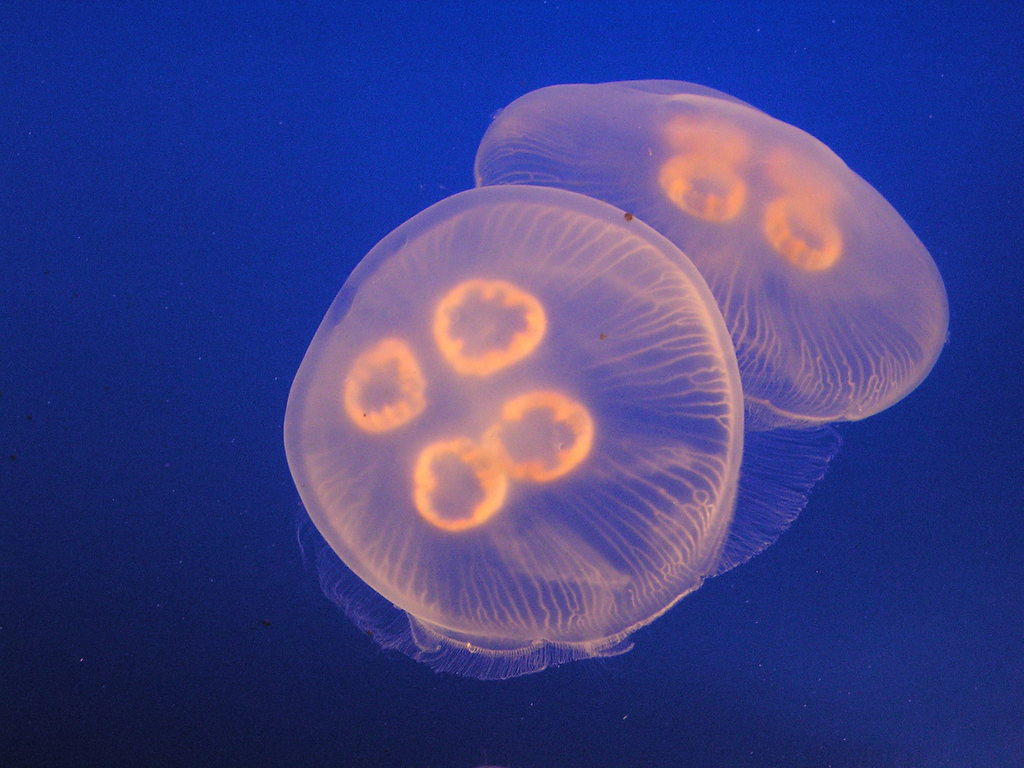Jellyfish: (278, 178, 842, 680), (466, 75, 947, 431), (469, 74, 946, 431)
